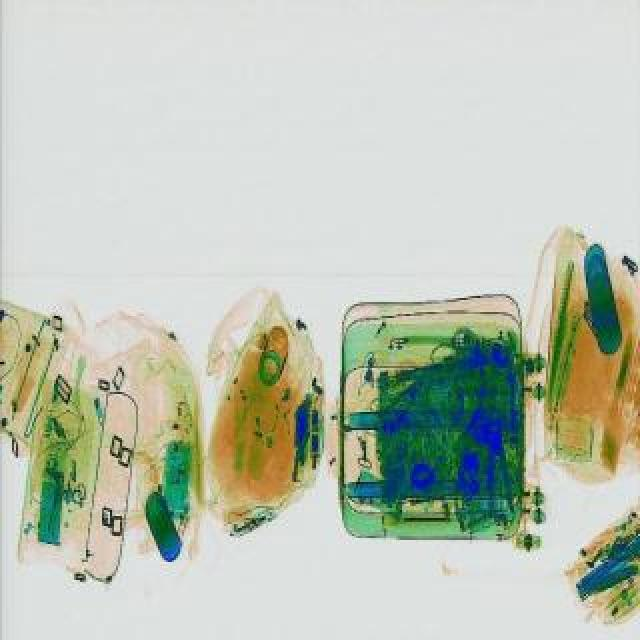wrench: (480, 418, 516, 518)
